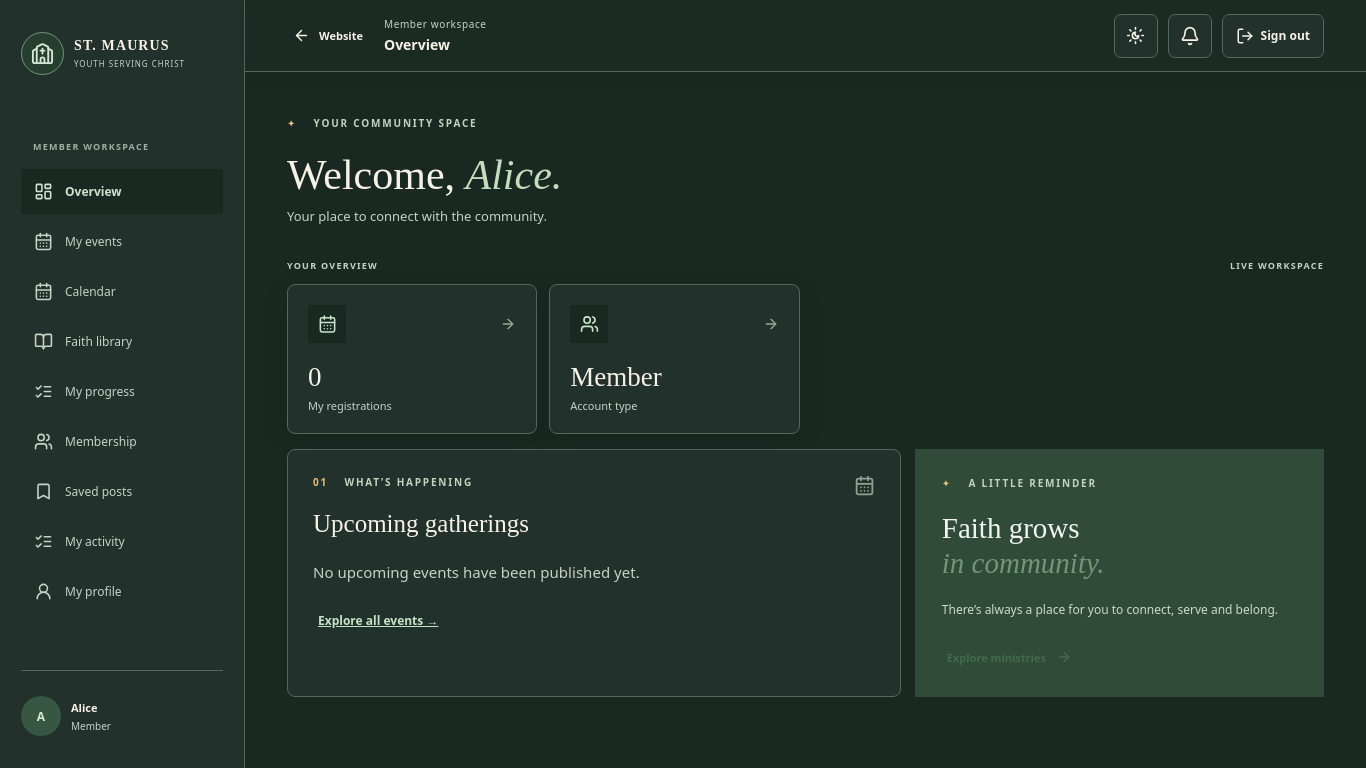
Test: header and draft policy review › keeps appearance accessible in a signed-in dashboard
expect the heading "Welcome, Alice." is shown: met, box [287,151,562,199]
Click the button named "Open appearance settings".
click(1136, 36)  # box [1114,14,1158,58]
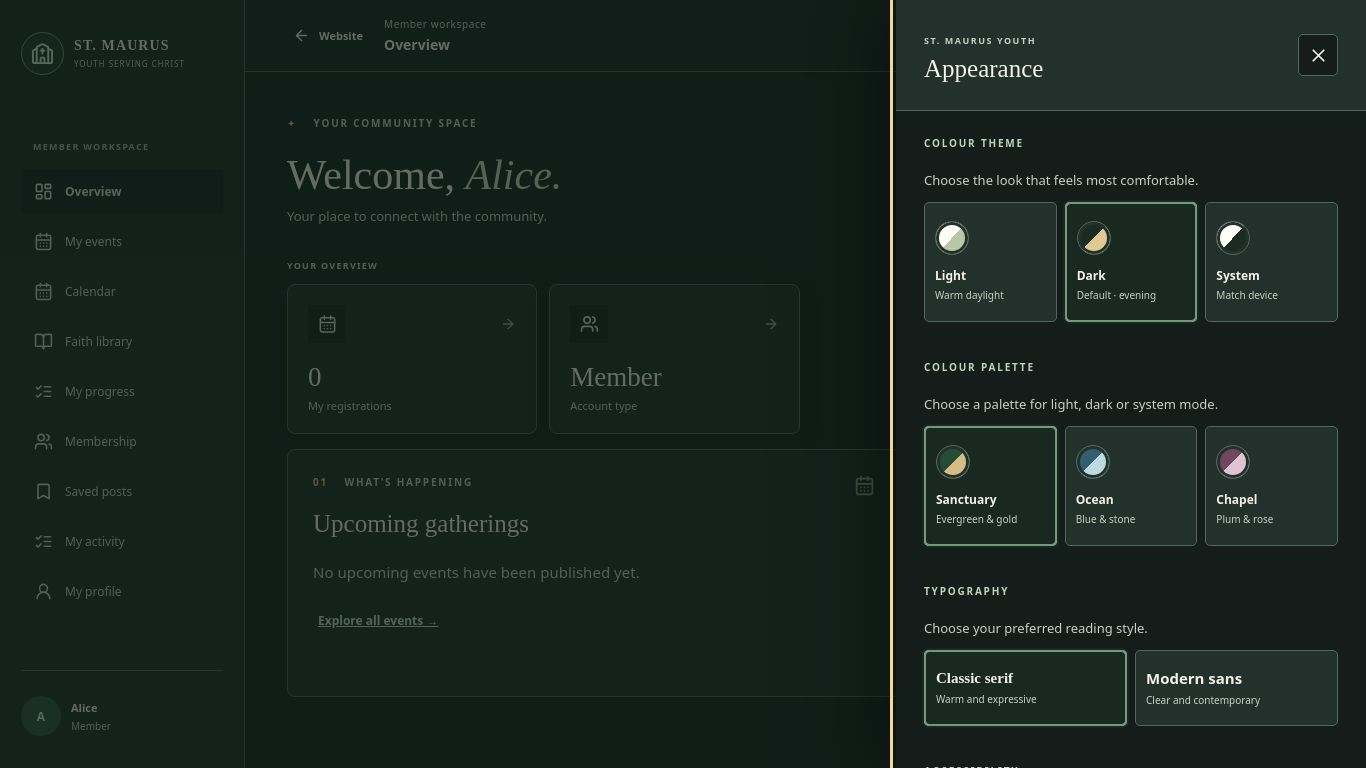
expect the dialog "Appearance" is shown: met, box [896,0,1365,767]
